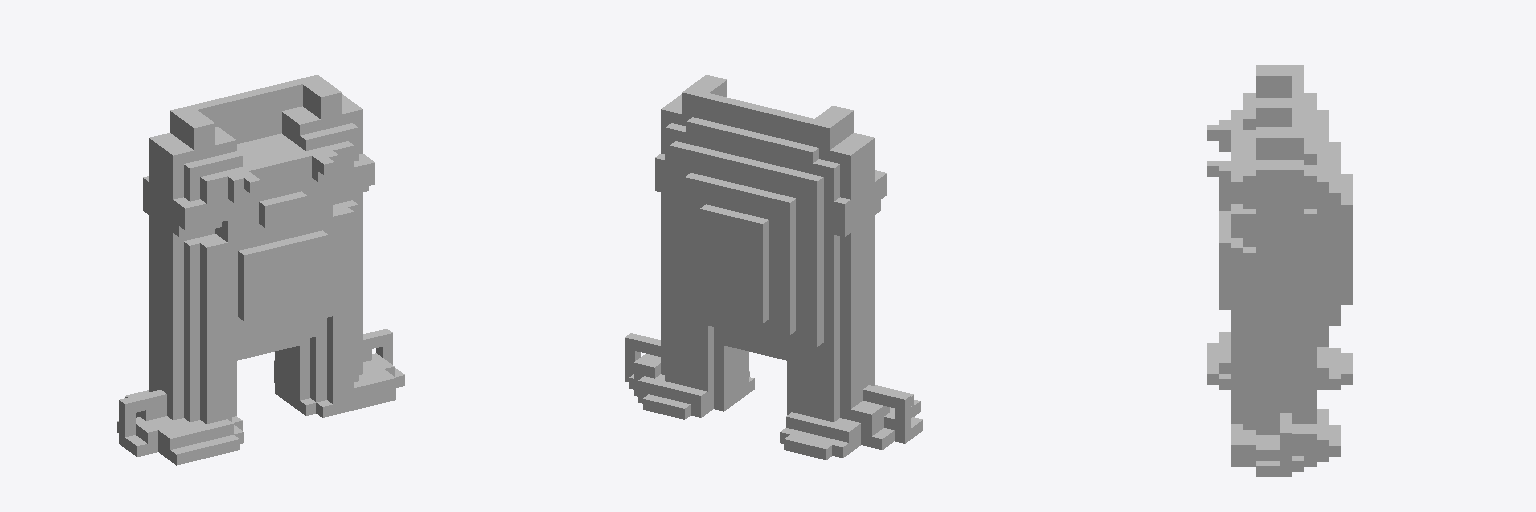
Rendered from Mole Body.obj.
3 renders of one model, left to right at view 1: azimuth 30°, elevation 25°; view 2: azimuth 150°, elevation 25°; view 3: azimuth 270°, elevation 25°, orthographic.
Visible parts, largest first — view 1: object 1; view 2: object 1; view 3: object 1.
Boxes of the visible parts, x1,y1,x2,y2 form: object 1: [117, 75, 404, 465]; object 1: [625, 75, 922, 459]; object 1: [1207, 65, 1352, 476].
Bounding box in the file's own units: 2.6 × 2.8 × 1.2.